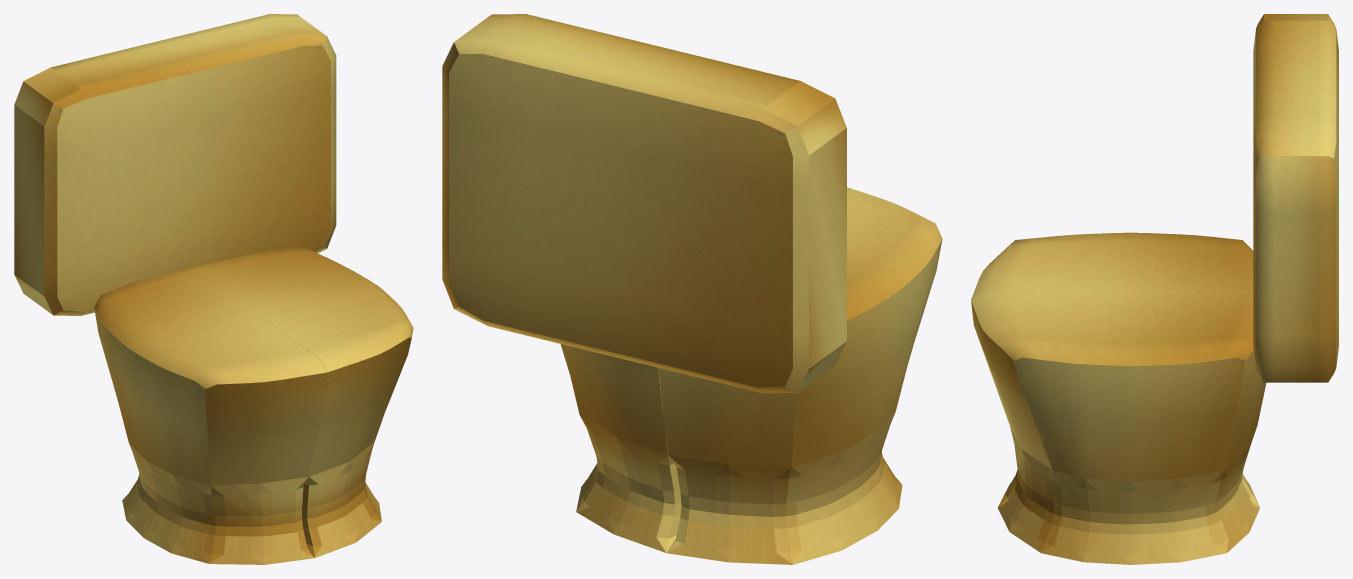
The model's file is Toilet_02.obj.
The picture shows the model from 3 angles, left to right: view 1: azimuth 30°, elevation 25°; view 2: azimuth 150°, elevation 25°; view 3: azimuth 270°, elevation 25°; orthographic projection. The views are drawn at different scales.
Parts seen in each view (by area): view 1: Box050, Box051; view 2: Box051, Box050; view 3: Box050, Box051.
Part boxes in pixels (x1=…): Box050: x1=94, y1=246, x2=413, y2=564; Box051: x1=14, y1=14, x2=336, y2=315; Box051: x1=442, y1=14, x2=846, y2=393; Box050: x1=560, y1=187, x2=942, y2=564; Box050: x1=971, y1=232, x2=1266, y2=564; Box051: x1=1253, y1=14, x2=1338, y2=382.
Bounding box in the file's own units: 33.33 × 44.05 × 34.13.
